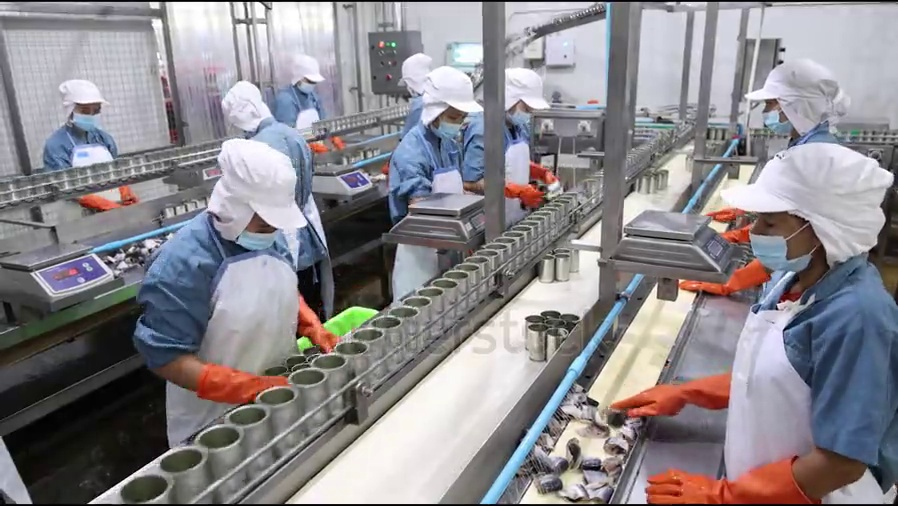0 employé: (747, 148, 876, 481), (181, 139, 311, 362), (419, 71, 480, 267), (752, 62, 848, 137), (495, 64, 550, 189), (44, 65, 115, 161), (219, 79, 267, 148), (278, 56, 336, 113), (397, 44, 440, 112)
1 machine: (65, 203, 637, 473), (0, 80, 476, 264)
3 produit: (195, 426, 246, 497), (253, 387, 303, 453), (224, 412, 276, 470), (286, 370, 327, 435), (164, 445, 208, 497), (316, 353, 346, 418), (354, 330, 388, 381), (338, 339, 371, 390), (113, 479, 173, 504), (390, 303, 420, 353), (418, 284, 444, 335), (378, 316, 406, 361), (434, 270, 455, 330), (407, 298, 433, 346), (511, 222, 534, 265), (490, 238, 509, 285), (467, 250, 489, 290), (497, 231, 520, 267), (445, 274, 467, 311), (475, 248, 502, 278), (477, 247, 513, 269), (455, 263, 475, 301), (524, 215, 542, 257), (534, 209, 549, 253), (467, 257, 489, 286), (560, 186, 577, 216), (155, 147, 171, 177), (551, 200, 566, 231), (542, 203, 556, 234), (124, 154, 140, 176), (185, 134, 197, 163), (584, 180, 599, 203), (18, 174, 32, 198), (174, 143, 186, 171), (197, 133, 208, 163), (596, 172, 606, 205), (631, 145, 642, 175), (370, 108, 387, 127), (45, 170, 59, 193), (69, 164, 83, 187), (343, 110, 355, 136), (212, 131, 222, 162), (141, 151, 152, 179), (642, 143, 654, 167), (96, 161, 108, 183), (853, 123, 865, 145), (623, 155, 633, 181), (12, 173, 20, 205), (359, 110, 371, 131), (111, 160, 122, 182), (681, 122, 691, 145), (312, 120, 324, 139), (328, 117, 341, 134), (58, 169, 69, 189), (34, 171, 43, 195), (86, 165, 95, 189), (670, 126, 679, 150), (656, 131, 665, 153), (868, 127, 880, 143), (388, 107, 399, 124), (173, 149, 183, 167), (709, 126, 720, 141), (881, 123, 887, 144)
